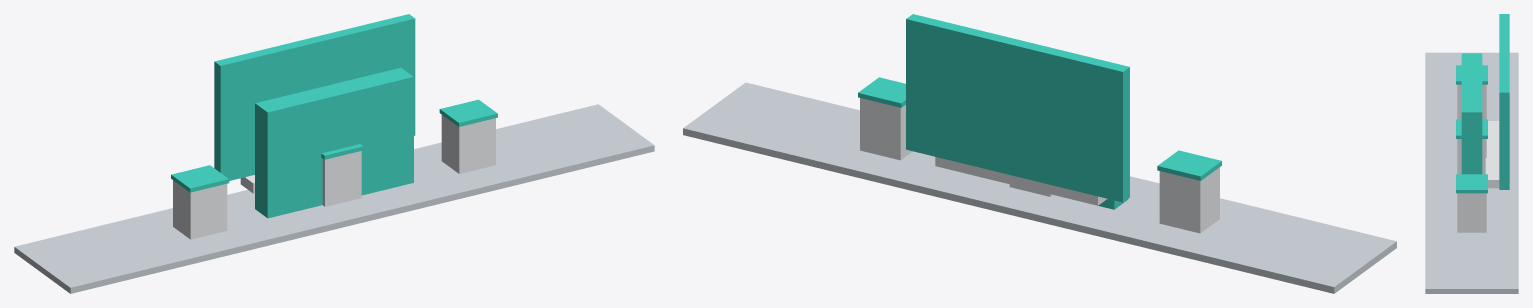
The picture shows the model from 3 angles, left to right: view 1: azimuth 30°, elevation 25°; view 2: azimuth 150°, elevation 25°; view 3: azimuth 270°, elevation 25°; orthographic projection. The views are drawn at different scales.
Visible parts, largest first — view 1: Exhibition Booth Concept; view 2: Exhibition Booth Concept; view 3: Exhibition Booth Concept.
Boxes of the visible parts, box(x1,y1,x2,y2) form: Exhibition Booth Concept: box(14, 14, 654, 293); Exhibition Booth Concept: box(683, 14, 1396, 293); Exhibition Booth Concept: box(1425, 14, 1518, 293).
Size of the model in its own units: 12 by 2.9 by 2.
